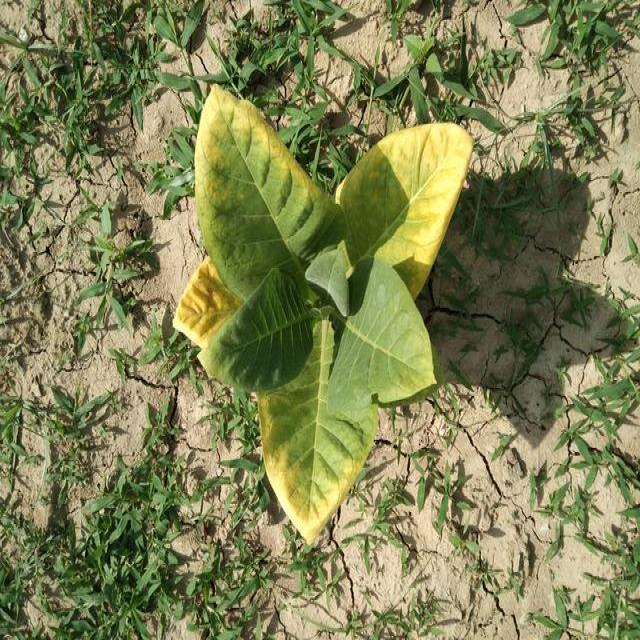crop: (169, 74, 489, 552)
